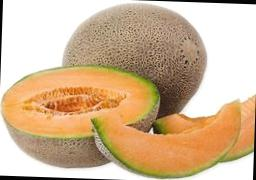Melon Ripe: (58, 2, 210, 115), (0, 63, 160, 169), (88, 111, 240, 180)
